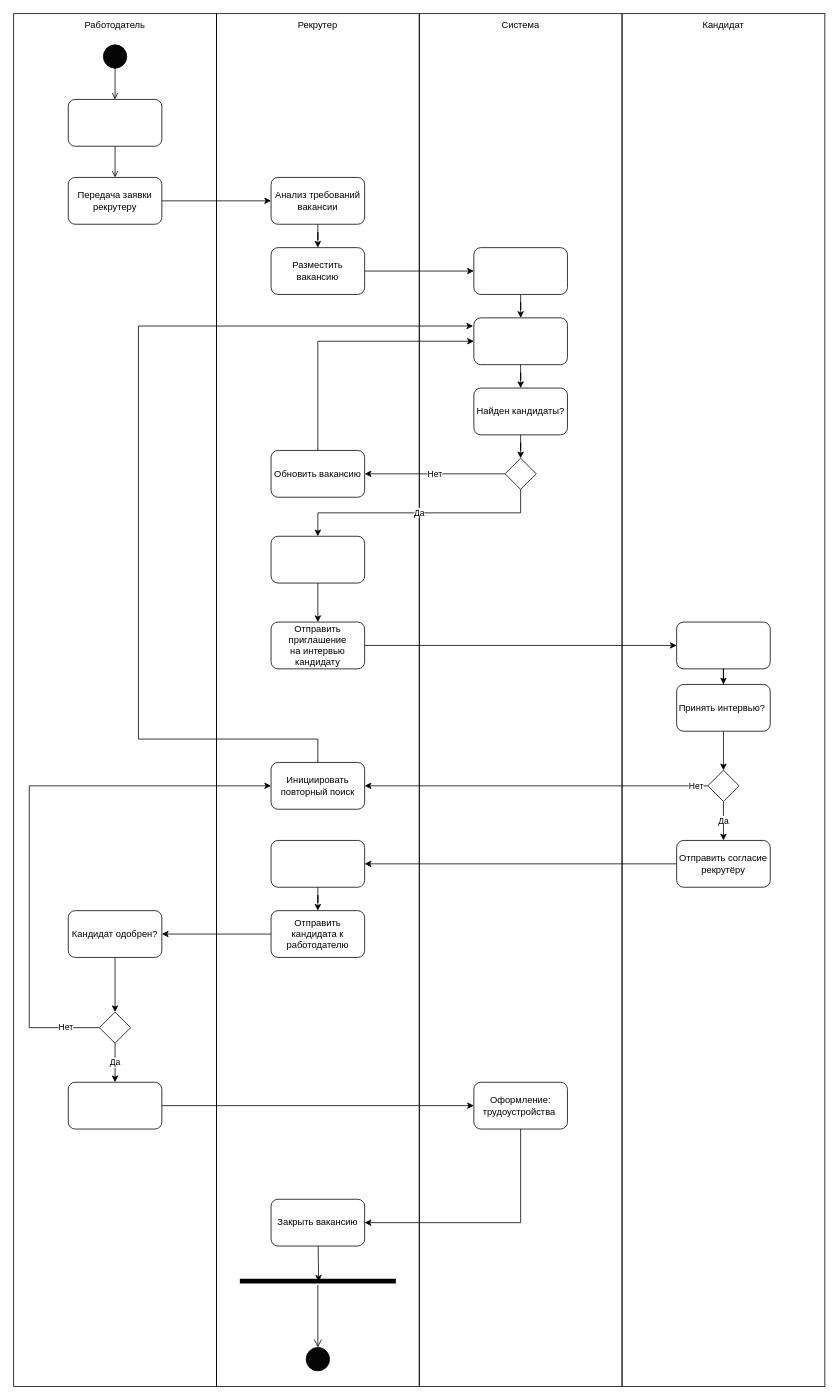
This 838x1400 diagram has some shape labels left out. The centre of each missing label's shape, as x and y in pixels:
"Оформление список кандидатов" goes at point 317,559.
"Поиск кандидатов" goes at point 520,341.
"Получение приглашения" goes at point 723,645.
"Принятие кандидата" goes at point 114,1105.
"Провести интервью" goes at point 317,863.
"Сохранение вакансии в базе данных" goes at point 520,270.
"Формирования заявки на вакансию" goes at point 114,122.
